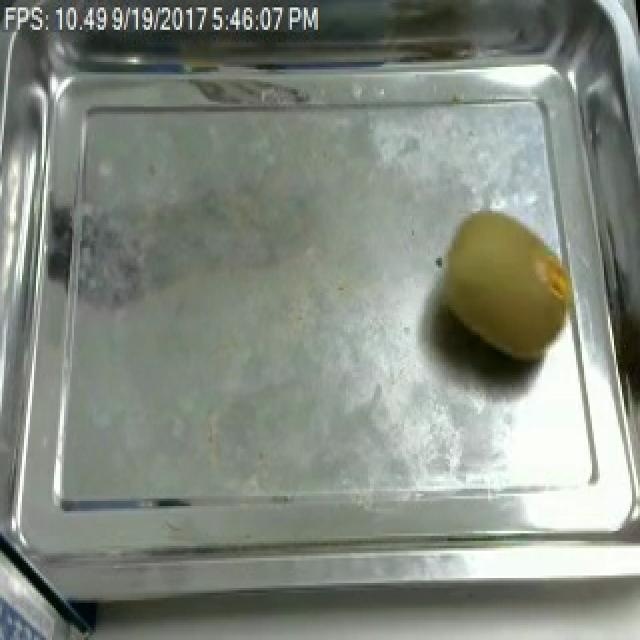Fruit: (428, 201, 588, 375)
